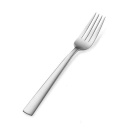fork: (19, 9, 109, 119)
